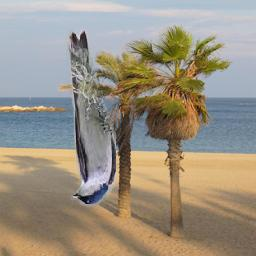Swallow: (66, 29, 116, 207)
